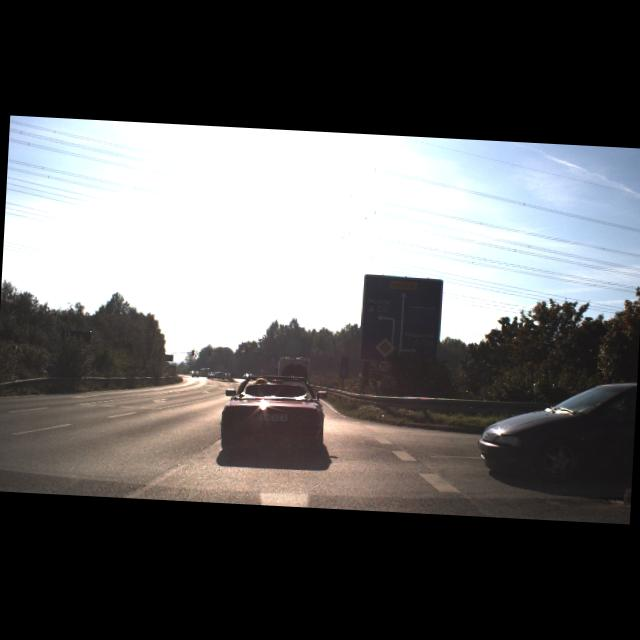other: (374, 336, 396, 358)
prohibitory: (375, 358, 392, 375)
